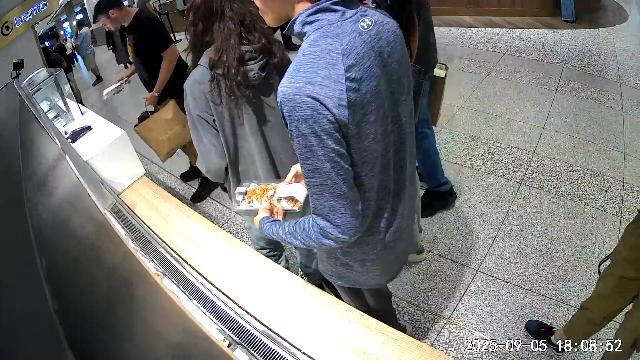sushi-box: (235, 183, 307, 211)
